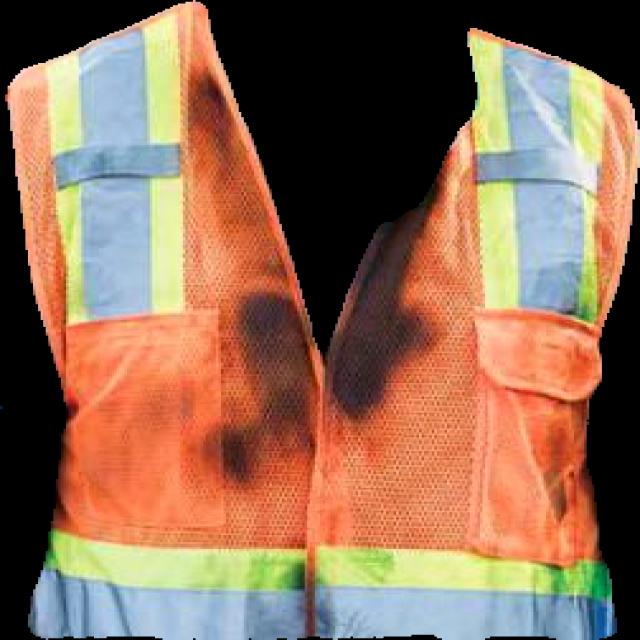Colete: (6, 0, 639, 639)
